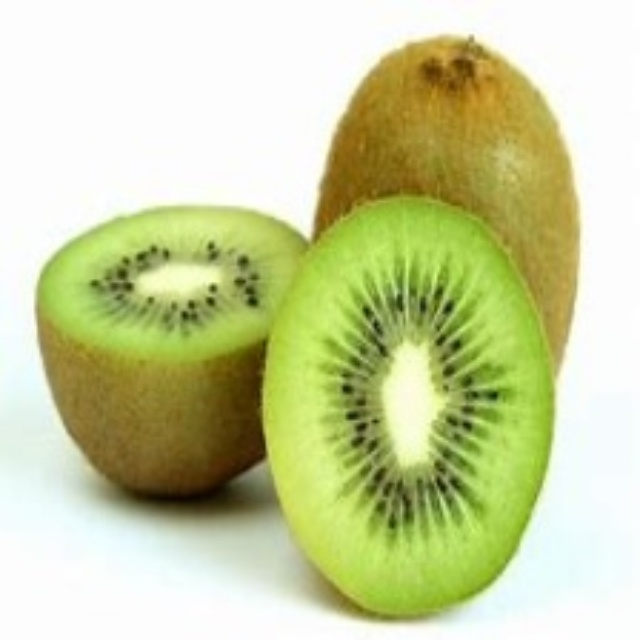kiwi: (263, 193, 558, 623), (29, 194, 311, 502), (322, 33, 576, 367)
